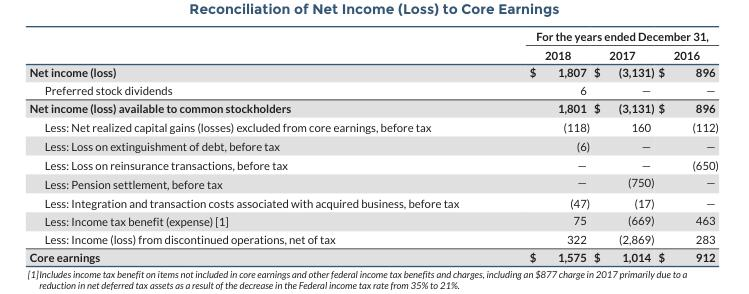table: (28, 28, 717, 263)
table column: (28, 28, 493, 263), (493, 28, 591, 263), (591, 28, 655, 263), (655, 28, 717, 263)
table column header: (28, 28, 717, 63)
table row: (28, 44, 717, 63), (28, 116, 717, 135), (28, 135, 717, 154), (28, 154, 717, 173), (28, 173, 717, 192), (28, 210, 717, 229), (28, 80, 717, 98), (28, 98, 717, 116), (28, 192, 717, 210), (28, 229, 717, 247), (28, 63, 717, 80), (28, 28, 717, 44), (28, 247, 717, 263)
table spanning cell: (493, 28, 717, 44)
